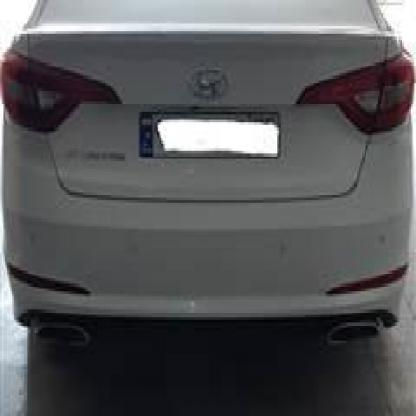Car: (0, 0, 414, 382)
